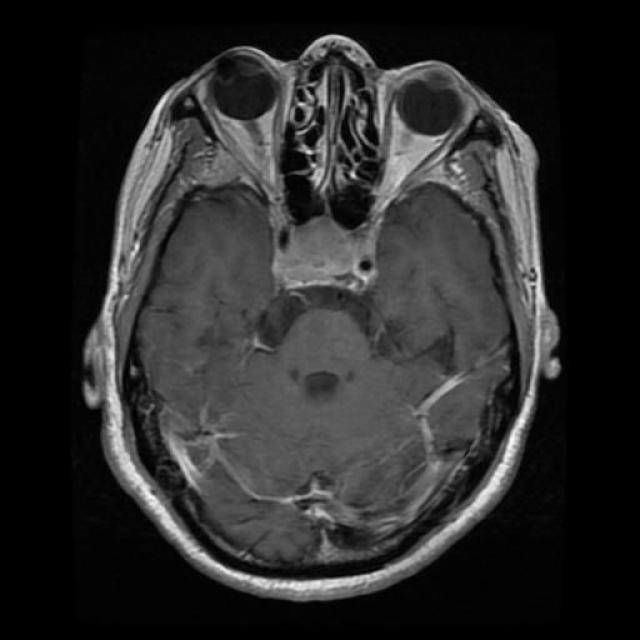pituitary: (270, 202, 382, 298)
